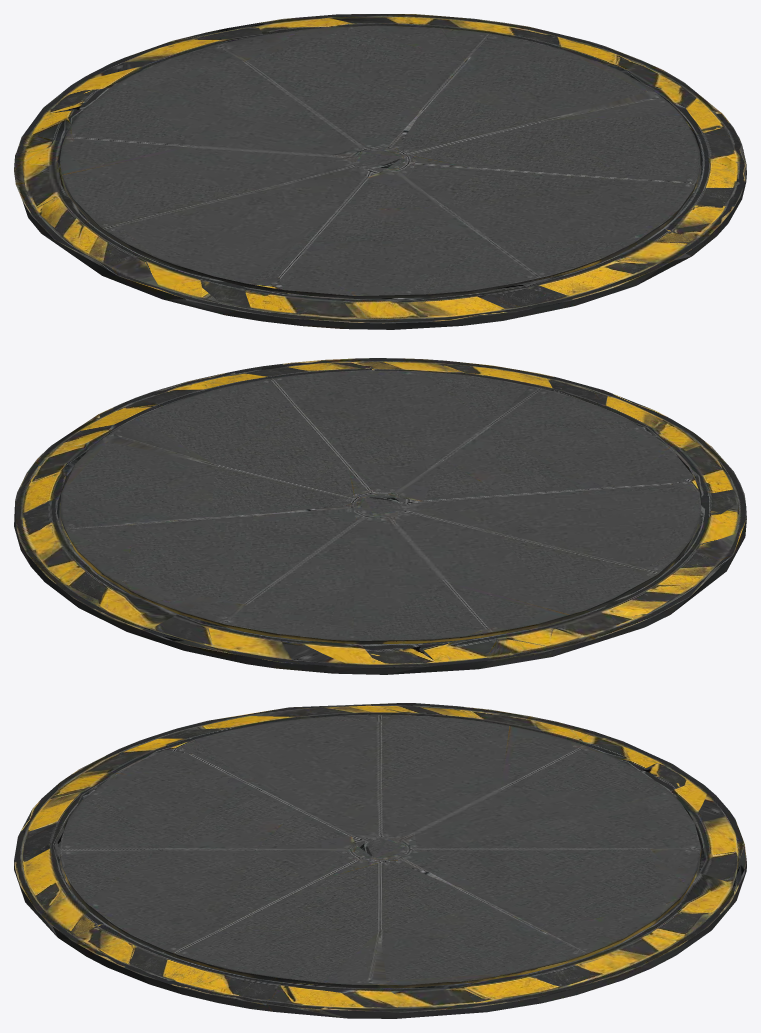
File: platform.glb
The picture shows the model from 3 angles, top to bottom: view 1: azimuth 30°, elevation 25°; view 2: azimuth 150°, elevation 25°; view 3: azimuth 270°, elevation 25°; orthographic projection.
Visible parts, largest first — view 1: output_unwrapped; view 2: output_unwrapped; view 3: output_unwrapped.
Boxes of the visible parts, x1,y1,x2,y2 form: output_unwrapped: (14,14,746,329); output_unwrapped: (14,358,746,674); output_unwrapped: (14,703,746,1018).
Size of the model in its own units: 1.9 by 0.045 by 1.9.
Materials: 1 (1 with a texture image).
